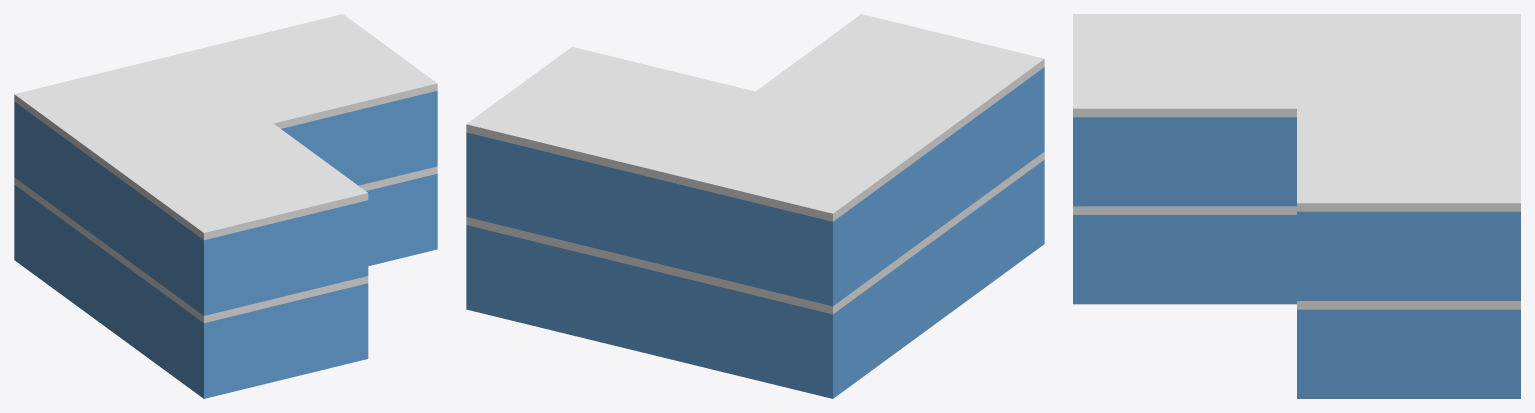
The model's file is building_L_7_f.glb.
3 renders of one model, left to right at view 1: azimuth 30°, elevation 25°; view 2: azimuth 150°, elevation 25°; view 3: azimuth 270°, elevation 25°, orthographic. The views are drawn at different scales.
Visible parts, largest first — view 1: Cube.001; view 2: Cube.001; view 3: Cube.001.
Boxes of the visible parts, x1=… form: Cube.001: x1=14, y1=14, x2=437, y2=398; Cube.001: x1=466, y1=14, x2=1044, y2=398; Cube.001: x1=1073, y1=14, x2=1520, y2=398.
Bounding box in the file's own units: 3.32 × 1.6 × 3.32.
